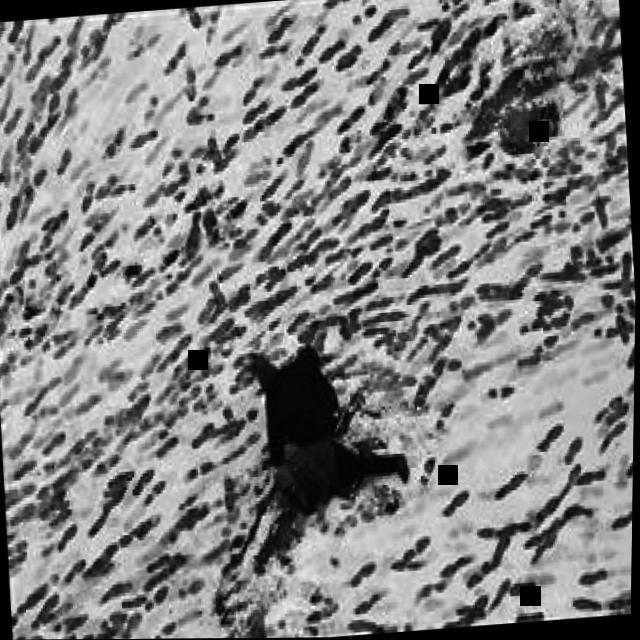Fall-Detected: (232, 324, 408, 514)
